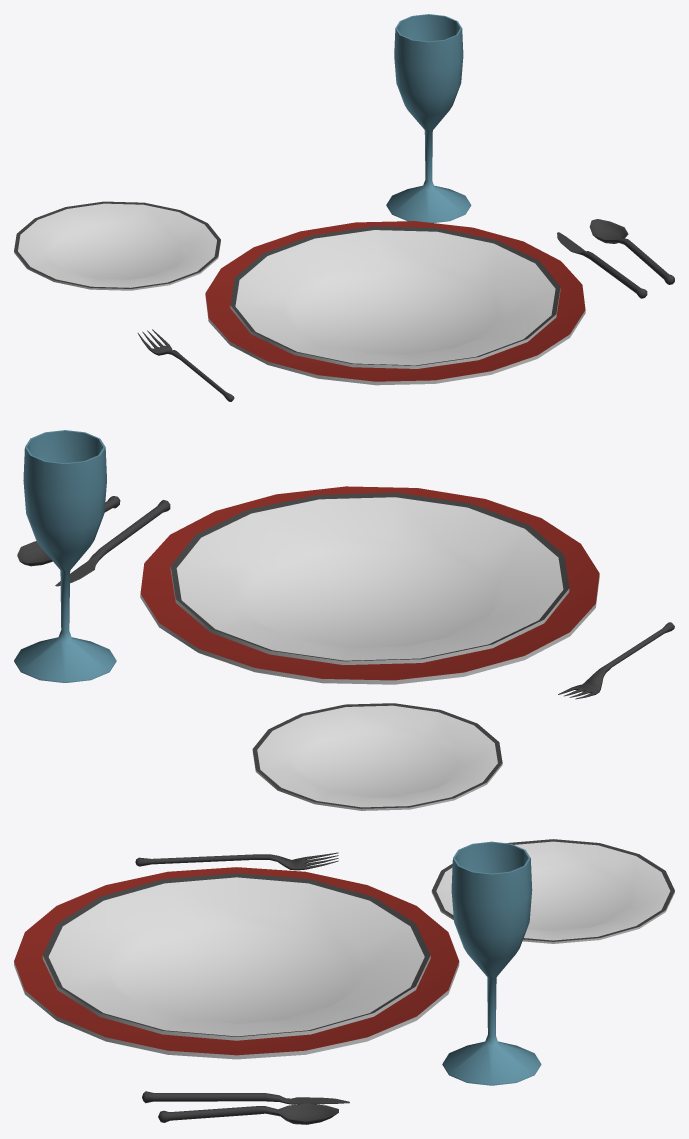
File: XCCJ003.FBX
3 views of the same model, one above another, from view 1: azimuth 30°, elevation 25°; view 2: azimuth 150°, elevation 25°; view 3: azimuth 270°, elevation 25° (orthographic). The views are drawn at different scales.
Parts seen in each view (by area): view 1: XCCJ003; view 2: XCCJ003; view 3: XCCJ003.
Boxes of the visible parts, x1,y1,x2,y2 form: XCCJ003: (14,14,674,401); XCCJ003: (14,430,674,810); XCCJ003: (14,839,674,1124).
Size of the model in its own units: 58.56 by 58.52 by 20.2.
